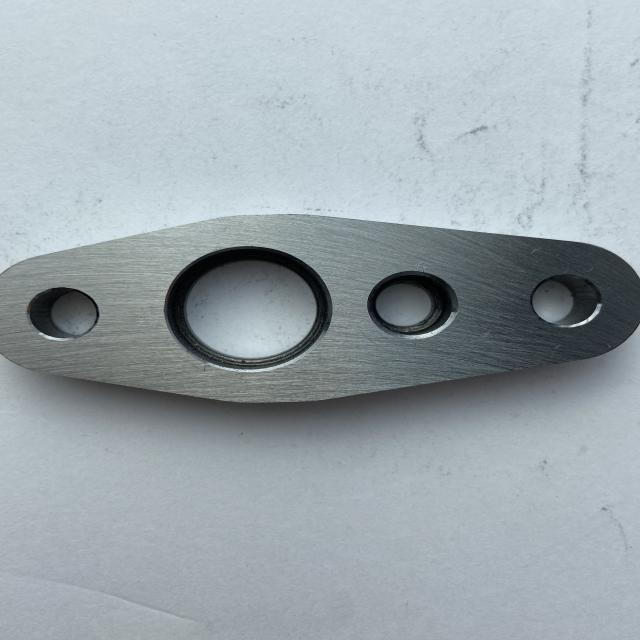chap: (412, 260, 428, 272), (551, 344, 563, 349)
